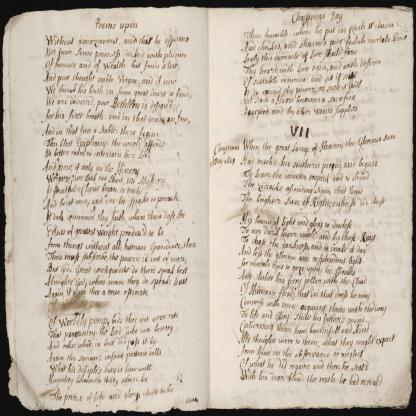book: (11, 8, 362, 402)
